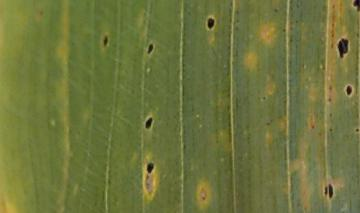tarspot: (337, 37, 350, 58), (206, 17, 216, 30), (144, 117, 153, 130), (146, 161, 155, 174), (328, 183, 334, 199), (352, 1, 360, 13), (102, 34, 109, 47), (147, 43, 154, 55), (345, 85, 353, 95), (322, 184, 328, 196), (327, 85, 334, 92), (328, 126, 334, 133), (327, 97, 333, 104), (281, 26, 287, 33), (310, 124, 316, 130), (273, 7, 279, 13), (262, 95, 267, 101), (355, 128, 360, 133), (329, 112, 333, 118)
